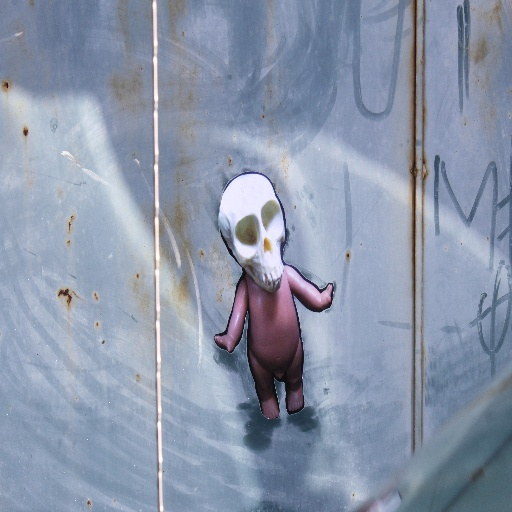hand: (304, 263, 339, 328), (213, 332, 238, 353)
